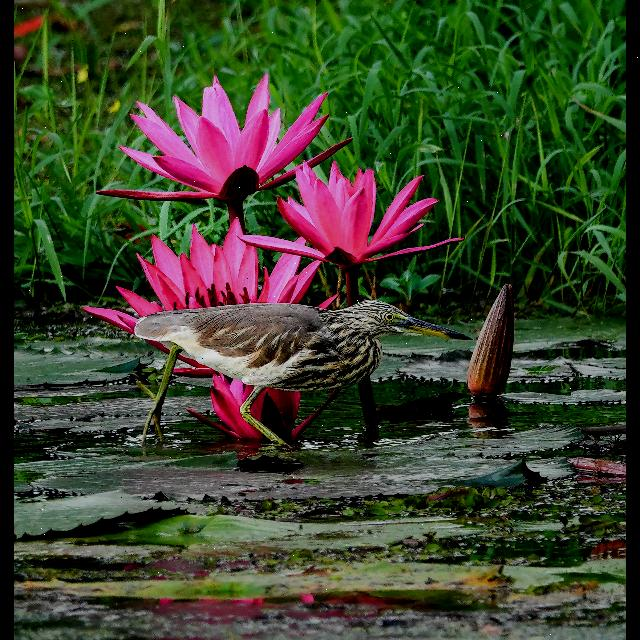heron: (118, 288, 480, 444)
